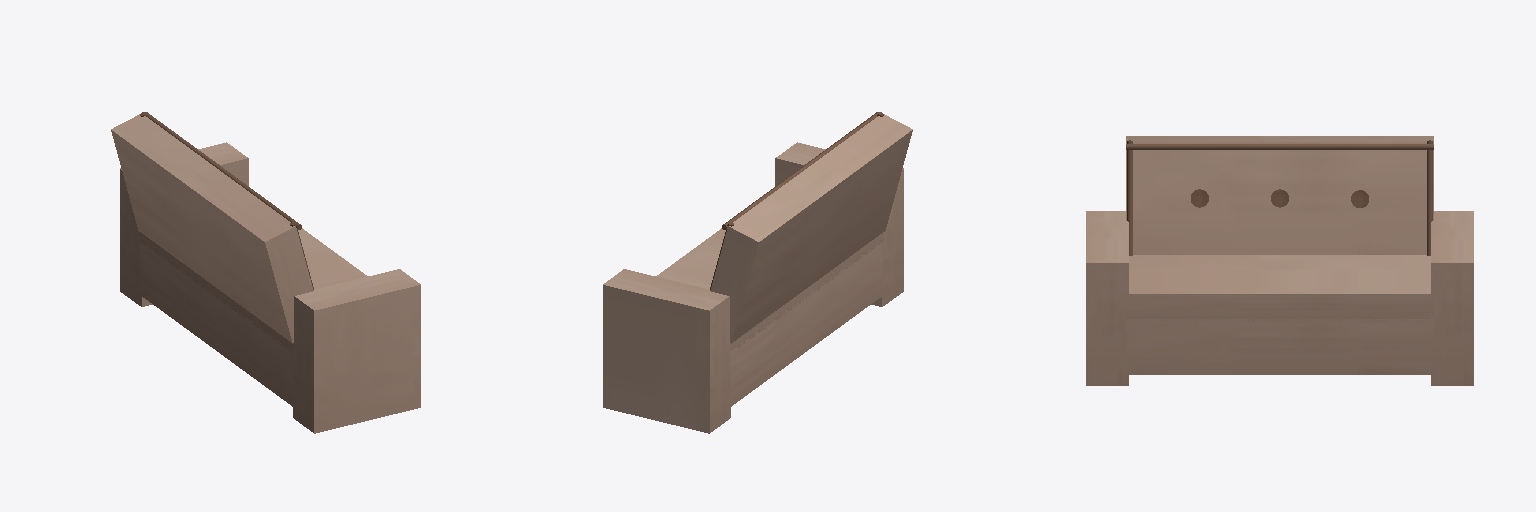
3 views of the same model, side by side, from view 1: azimuth 30°, elevation 25°; view 2: azimuth 150°, elevation 25°; view 3: azimuth 270°, elevation 25° (orthographic).
Visible parts, largest first — view 1: pCylinder4; view 2: pCylinder4; view 3: pCylinder4.
Boxes of the visible parts, <box> form: pCylinder4: <box>111,112,420,433</box>; pCylinder4: <box>603,112,912,433</box>; pCylinder4: <box>1086,136,1473,385</box>.
Size of the model in its own units: 255 by 348 by 630.
7 materials, 2 textured.